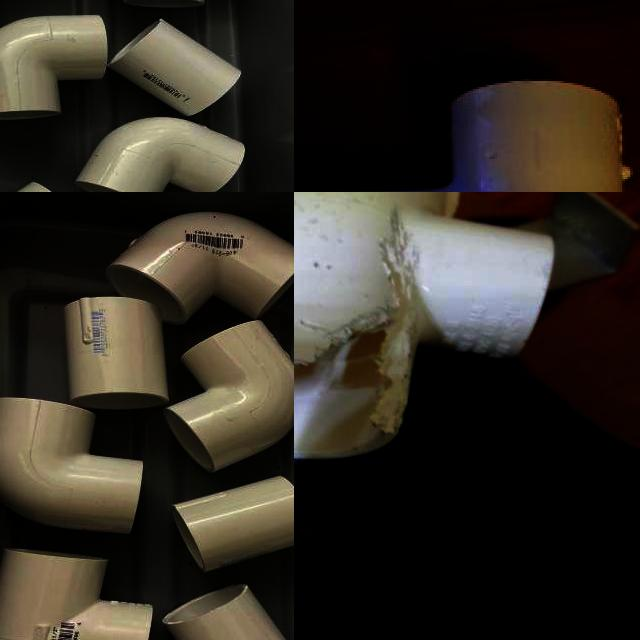Defective: (330, 311, 392, 391), (385, 211, 426, 295)
L Joint: (334, 79, 633, 192), (106, 212, 294, 327), (163, 321, 294, 473), (0, 398, 143, 537), (75, 117, 248, 192), (0, 15, 110, 125)
T Joint: (294, 192, 556, 462), (0, 548, 155, 640)
